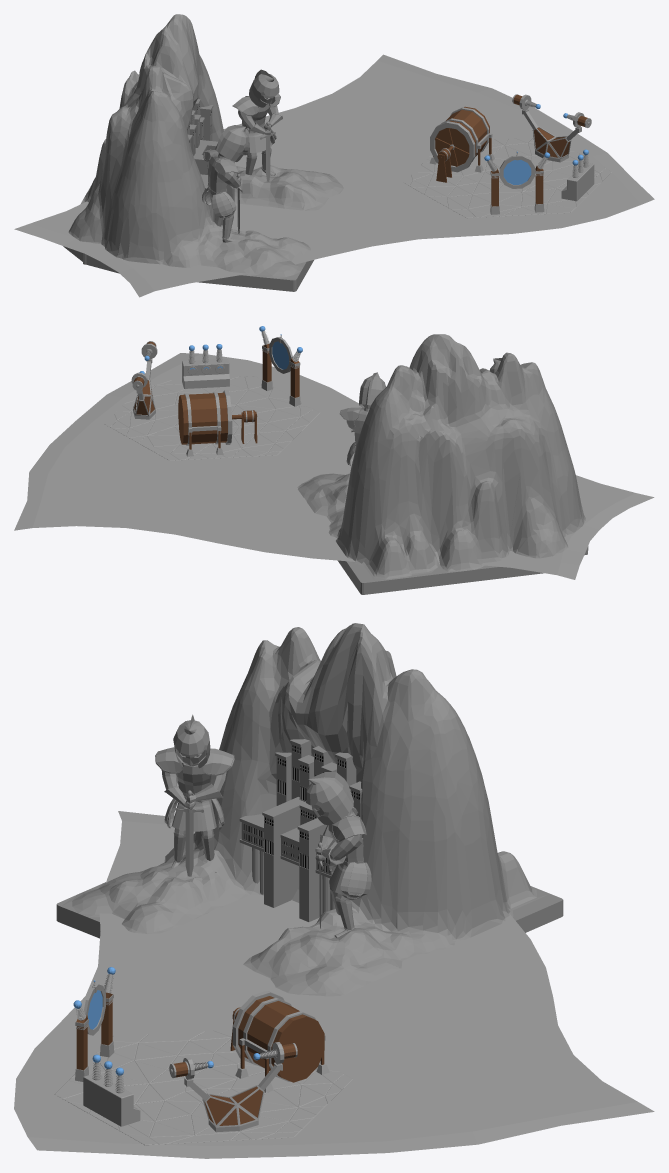
The model's file is DwarfMountainShowcase.glb.
3 renders of one model, top to bottom at view 1: azimuth 30°, elevation 25°; view 2: azimuth 150°, elevation 25°; view 3: azimuth 270°, elevation 25°, orthographic. The views are drawn at different scales.
Visible parts, largest first — view 1: MountainShowcase, DwarfKingdom, DwarfWorkshop; view 2: DwarfKingdom, MountainShowcase, DwarfWorkshop; view 3: DwarfKingdom, MountainShowcase, DwarfWorkshop.
Boxes of the visible parts, box(x1,y1,x2,y2) form: MountainShowcase: box(14, 54, 654, 297); DwarfKingdom: box(63, 14, 343, 291); DwarfWorkshop: box(403, 94, 611, 218); DwarfKingdom: box(297, 334, 588, 594); MountainShowcase: box(14, 353, 654, 579); DwarfWorkshop: box(104, 326, 319, 460); DwarfKingdom: box(56, 623, 563, 996); MountainShowcase: box(14, 811, 654, 1158); DwarfWorkshop: box(54, 967, 352, 1145).
Size of the model in its own units: 42.36 by 15.63 by 31.45.
